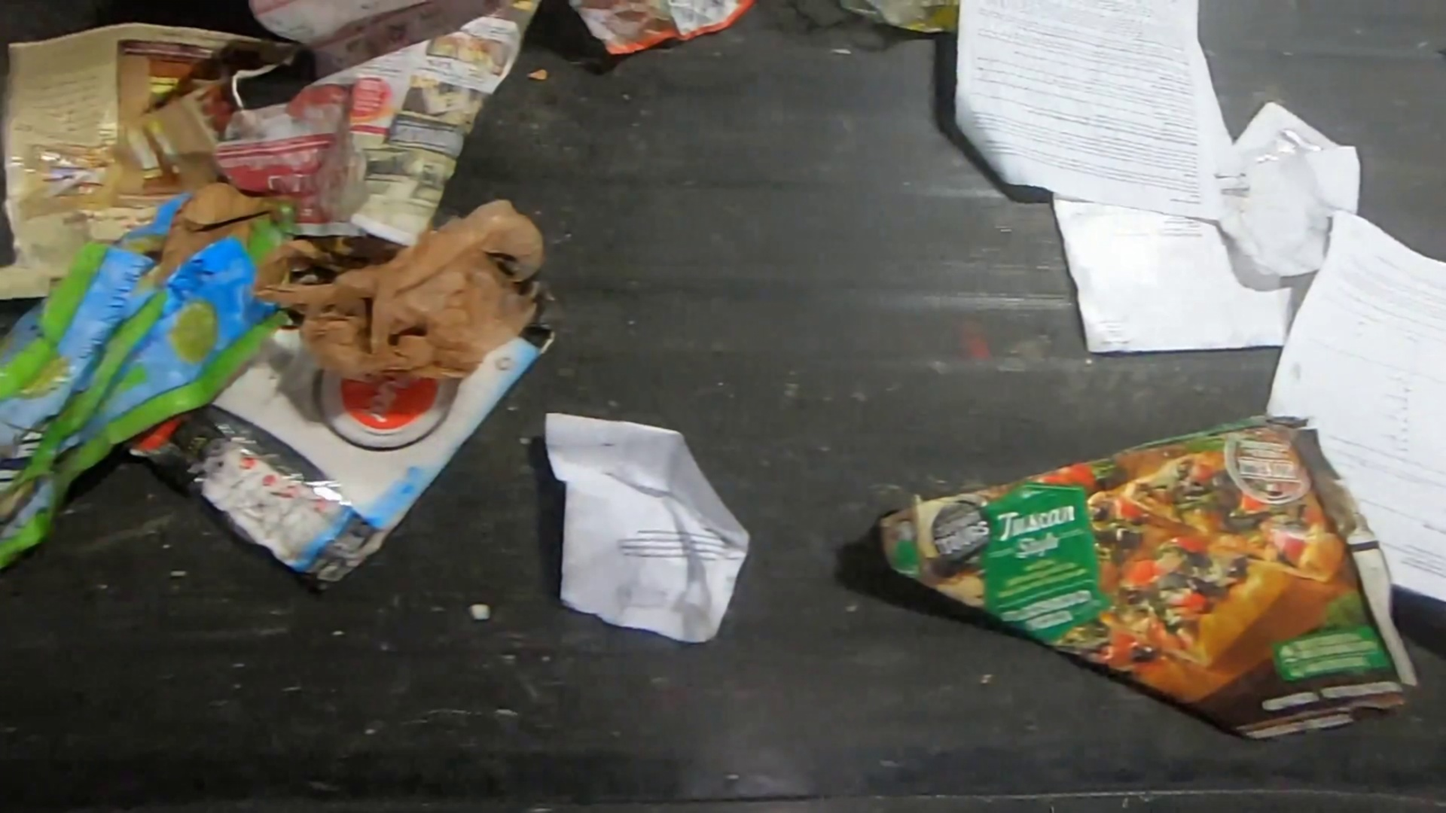cardboard: (871, 410, 1426, 746), (0, 180, 357, 579), (117, 325, 547, 596)
plastic: (254, 196, 552, 391)
